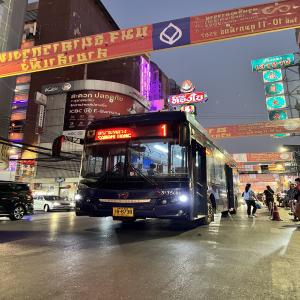Bus Line Number: (150, 120, 180, 140)
Bus Side Number: (157, 189, 185, 197)
Destination Sign: (92, 126, 137, 140)
TSB-Bus: (74, 111, 234, 228)
